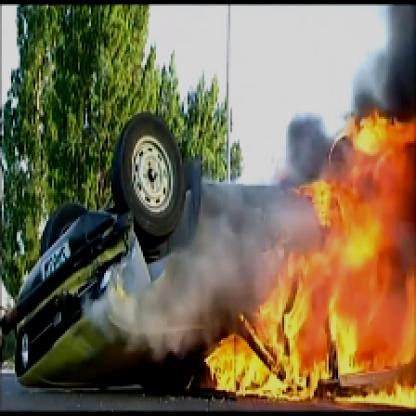Fire: (203, 91, 414, 414)
